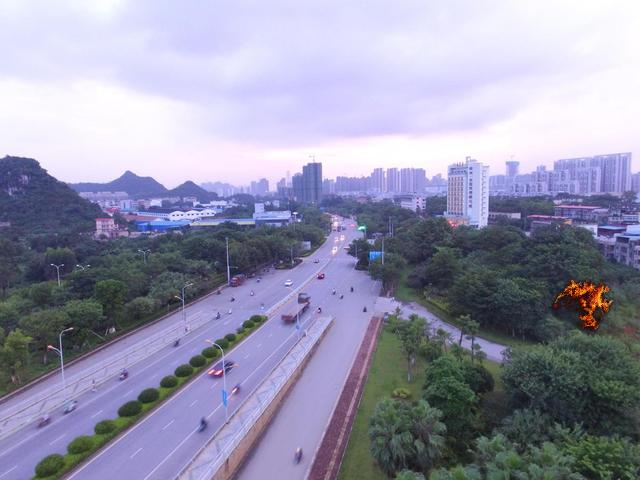fire: (550, 276, 615, 334)
